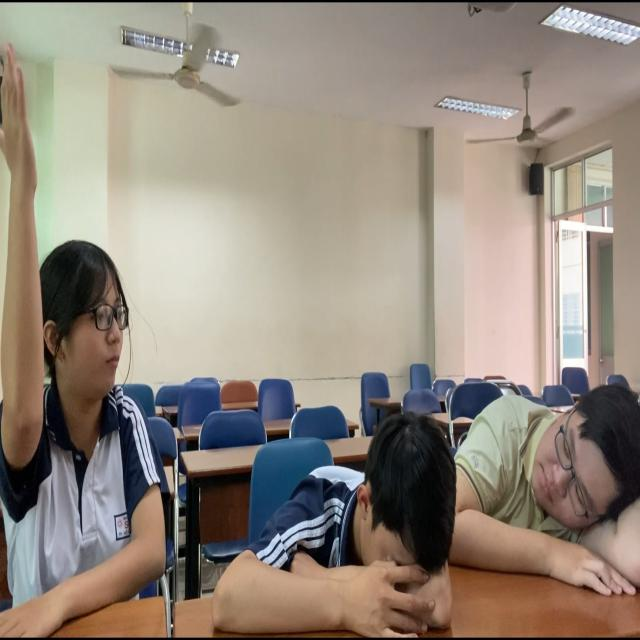raise_hand: (1, 39, 171, 640)
sleep: (221, 422, 456, 640), (450, 381, 640, 590)
